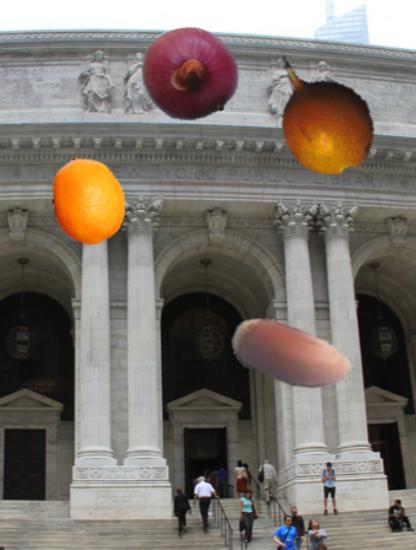Granadilla: (254, 43, 390, 179)
Hazelnut: (226, 291, 355, 420)
Lemon: (42, 154, 135, 247)
Onion: (141, 25, 239, 123)
